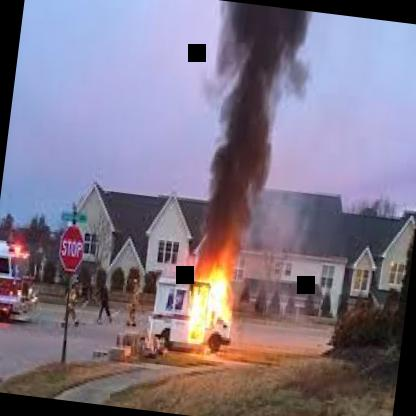fire: (140, 246, 252, 368)
